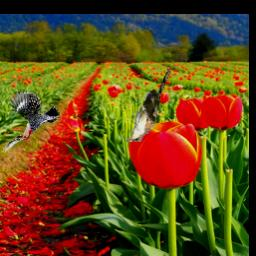Cuckoo: (127, 67, 171, 143)
Woodpecker: (4, 92, 61, 153)
